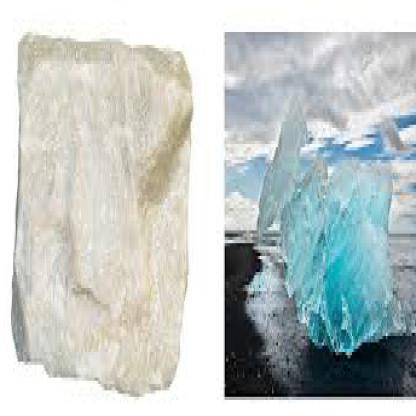Metamorphic_Quartize: (5, 16, 205, 403), (242, 93, 415, 385)
